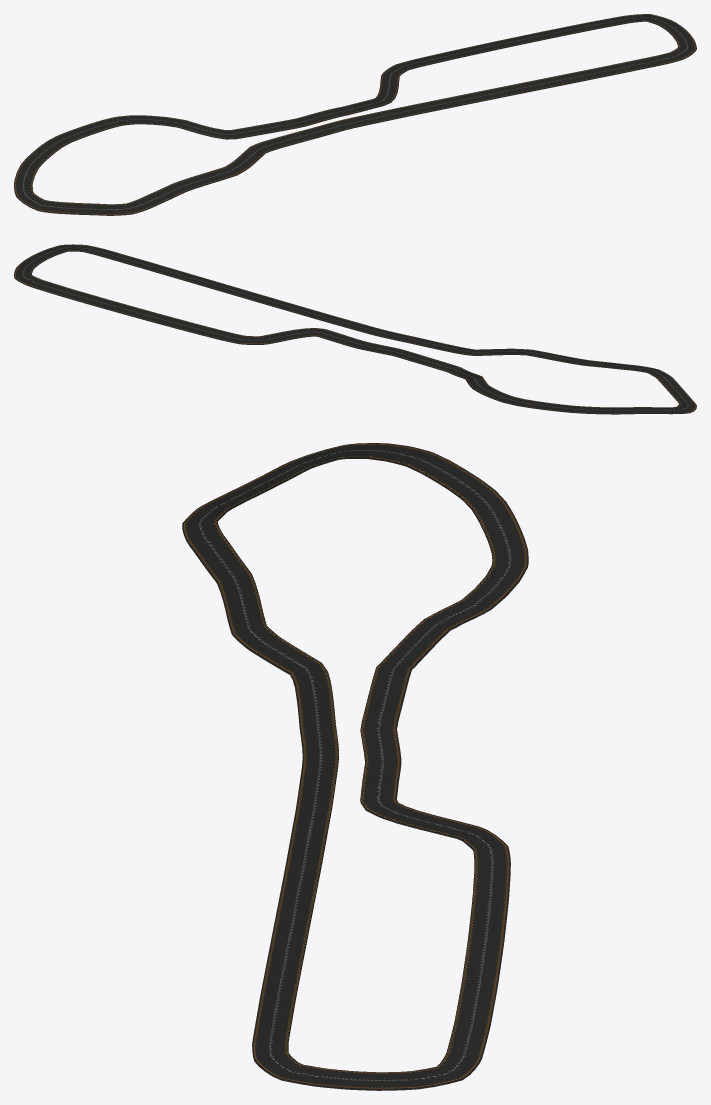
Rendered from track.obj.
The picture shows the model from 3 angles, top to bottom: view 1: azimuth 30°, elevation 25°; view 2: azimuth 150°, elevation 25°; view 3: azimuth 270°, elevation 25°; orthographic projection. The views are drawn at different scales.
Visible parts, largest first — view 1: Cube_Cube.002; view 2: Cube_Cube.002; view 3: Cube_Cube.002.
Boxes of the visible parts, bbox=[...] form: Cube_Cube.002: bbox=[14, 14, 696, 215]; Cube_Cube.002: bbox=[14, 244, 696, 414]; Cube_Cube.002: bbox=[182, 443, 528, 1090].
Bounding box in the file's own units: 331 × 8.04 × 75.5.
Materials: 1 (1 with a texture image).
